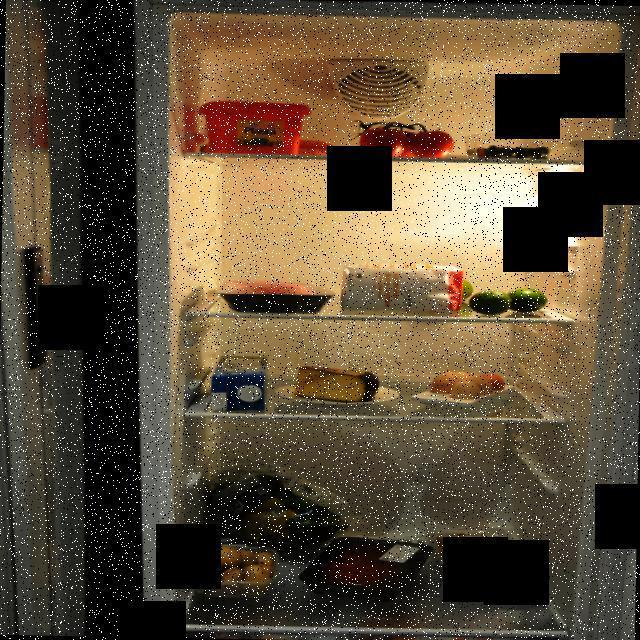beef: (296, 534, 437, 604)
blueberries: (462, 127, 564, 161)
butter: (193, 96, 312, 156)
carrot: (196, 135, 350, 156)
cheese: (289, 363, 382, 404)
eggs: (427, 367, 509, 405)
ground_beef: (214, 278, 339, 313)
lime: (438, 276, 554, 316)
milk: (209, 353, 272, 414)
potato: (191, 544, 276, 600)
shrimp: (432, 530, 514, 574)
spinach: (206, 466, 348, 561)
sugar: (332, 261, 470, 314)
tomato: (348, 113, 457, 159)
